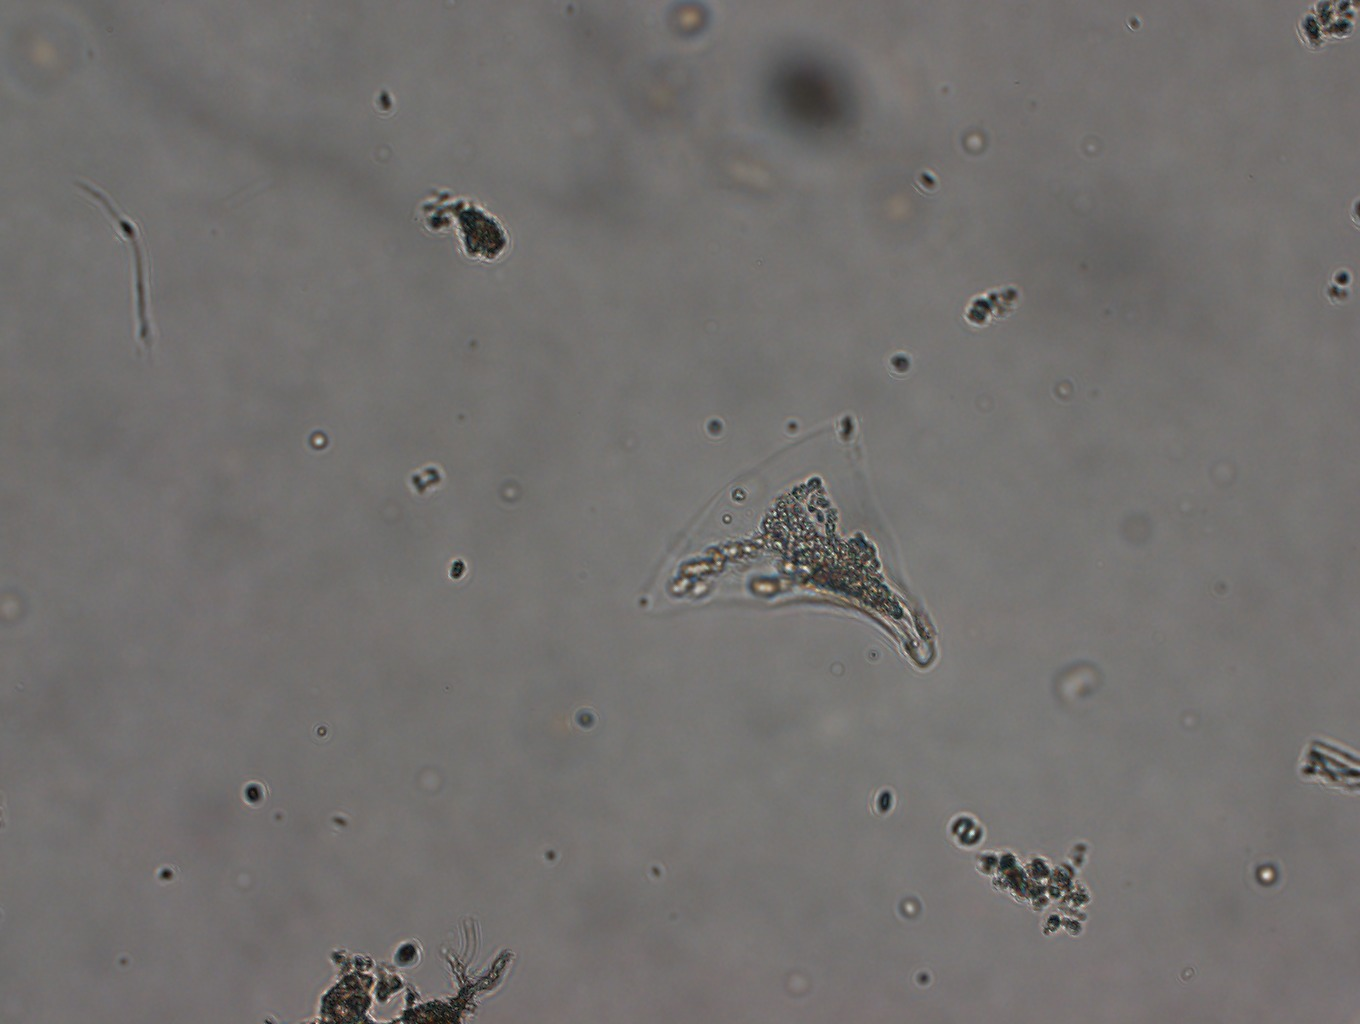helicotheca: (622, 406, 948, 687)
